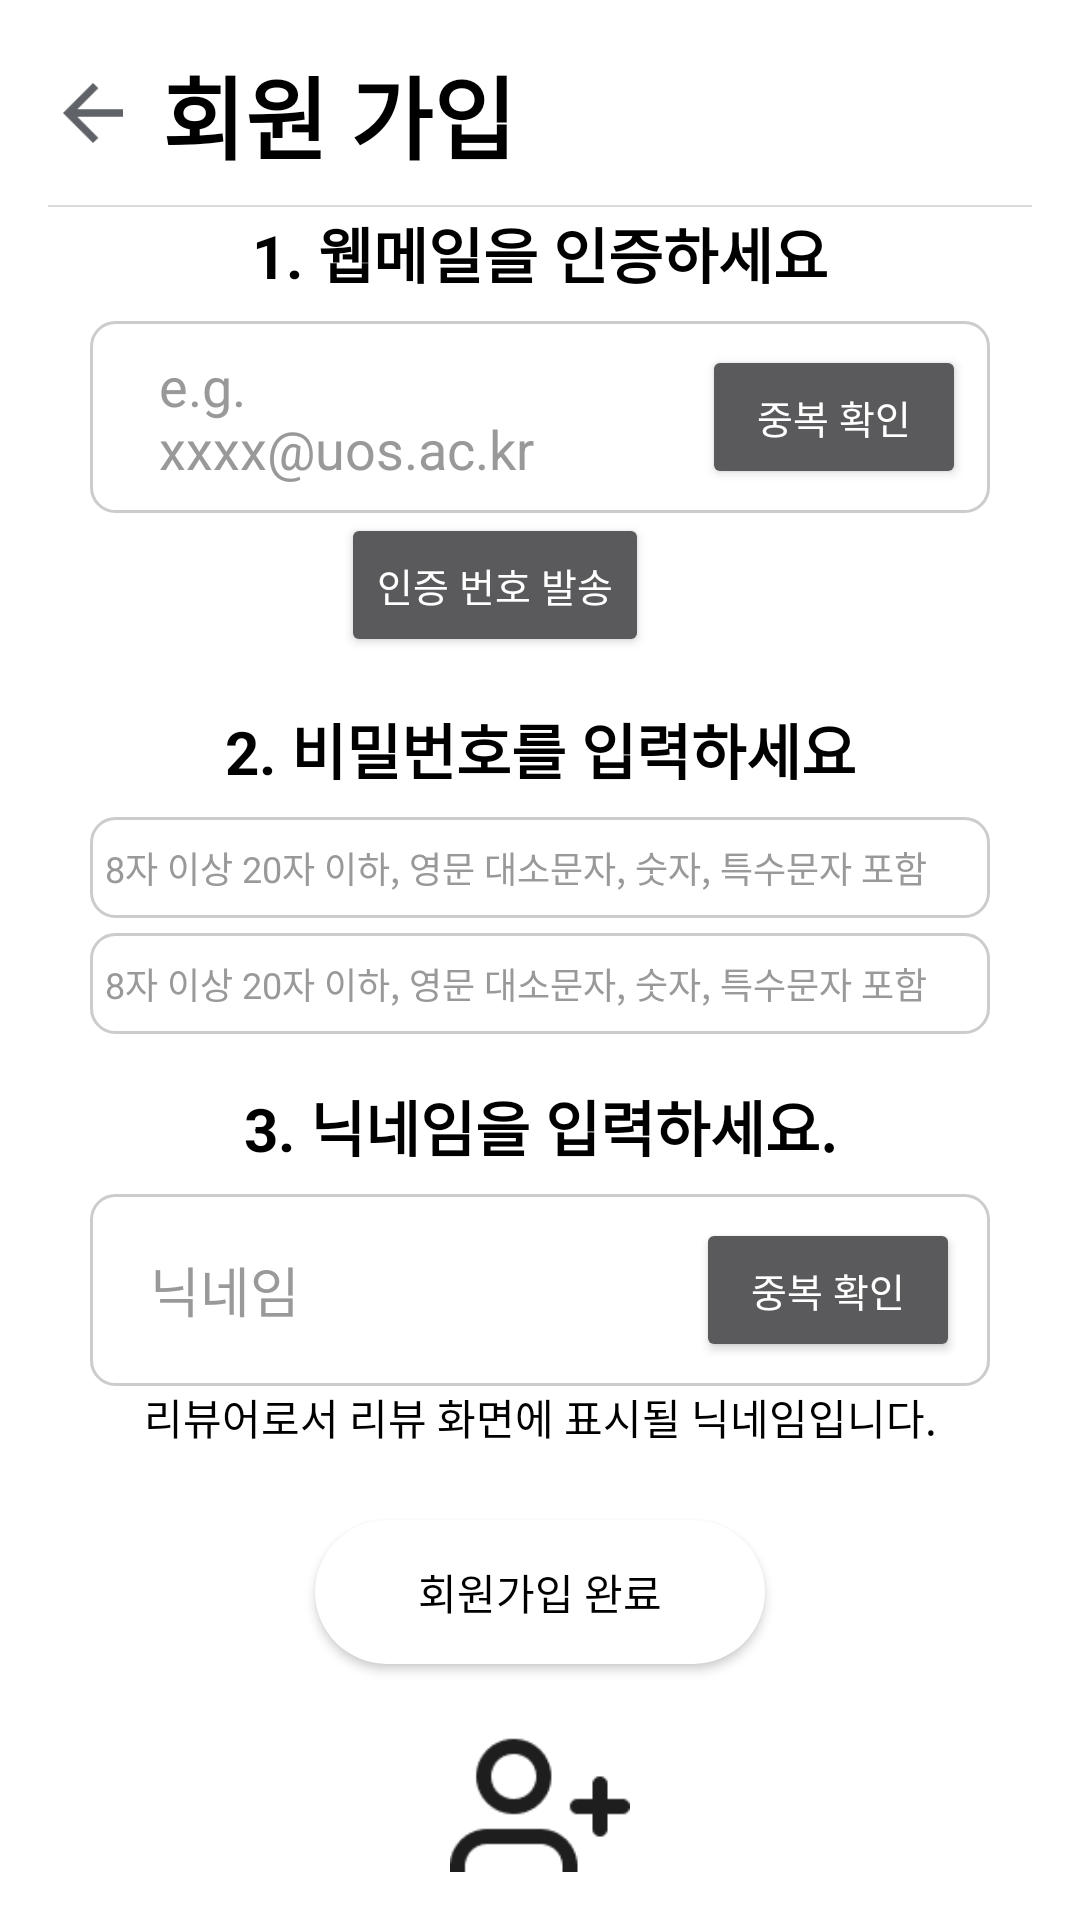

Point at icon controls on the screen. Image size 1080×1920, points as [x,y].
user: [540,1805]
뒤로가기: [93,113]
